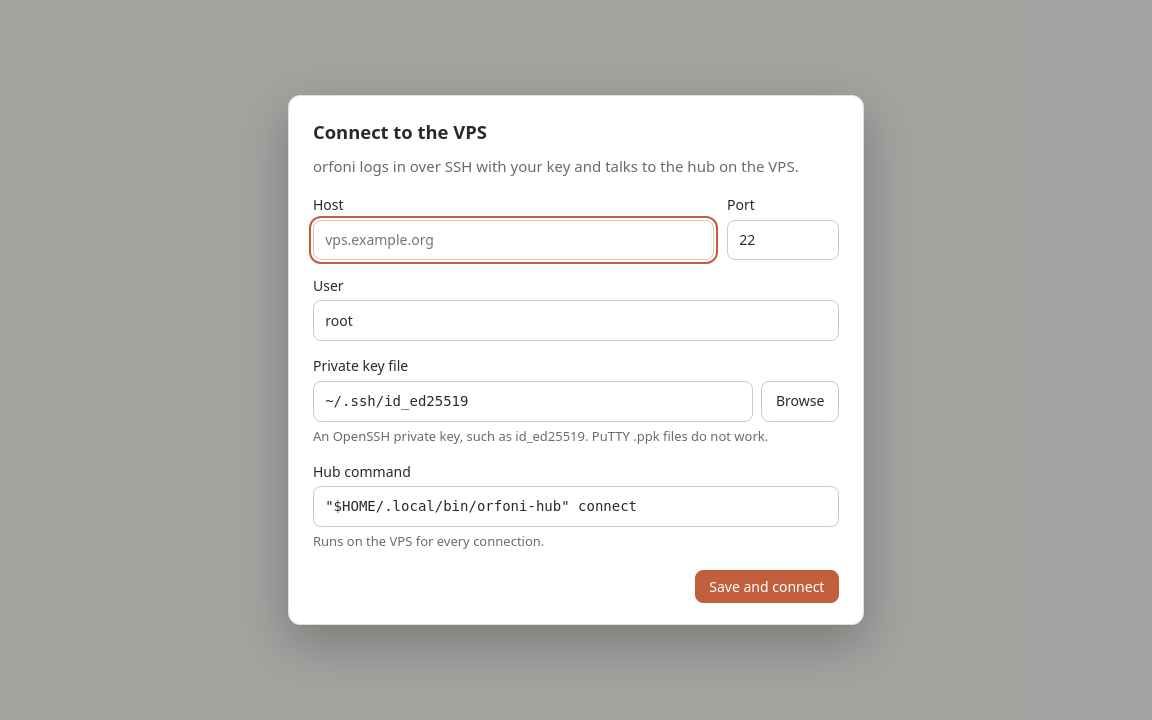
Test: an empty host blocks saving
The image size is (1152, 720).
Click the button "Save and connect".
click(767, 587)  # box [695,570,839,603]
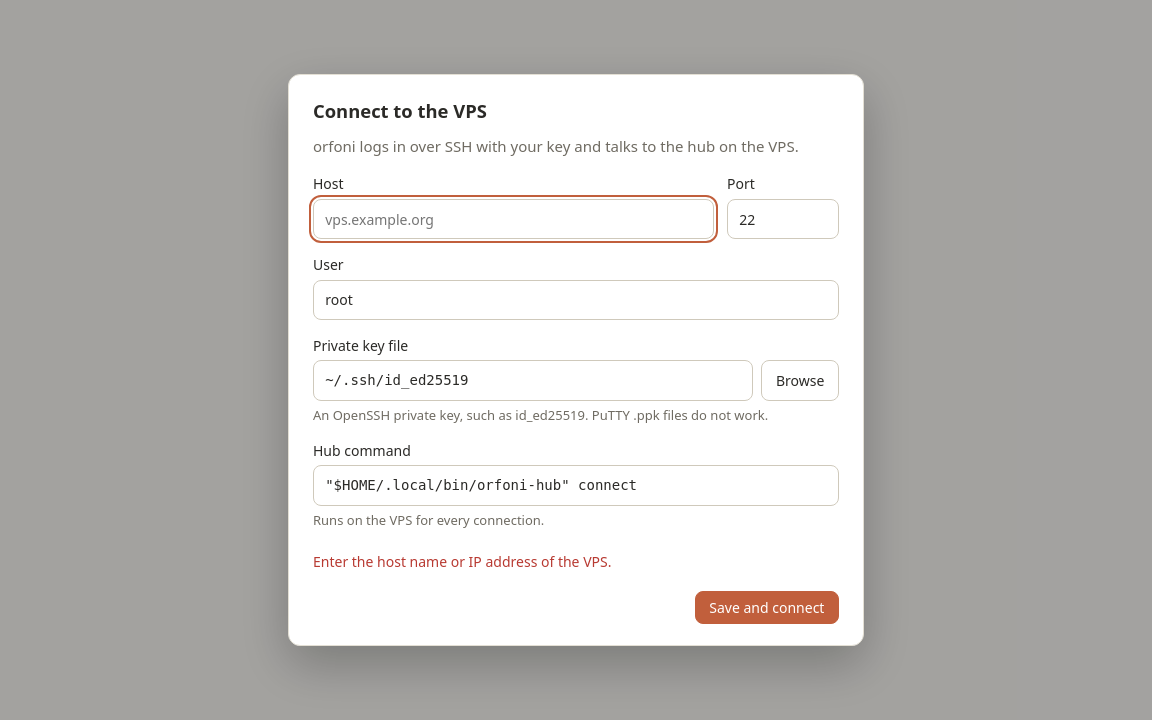
Result: the message shows "host" at [313,552,612,571]
